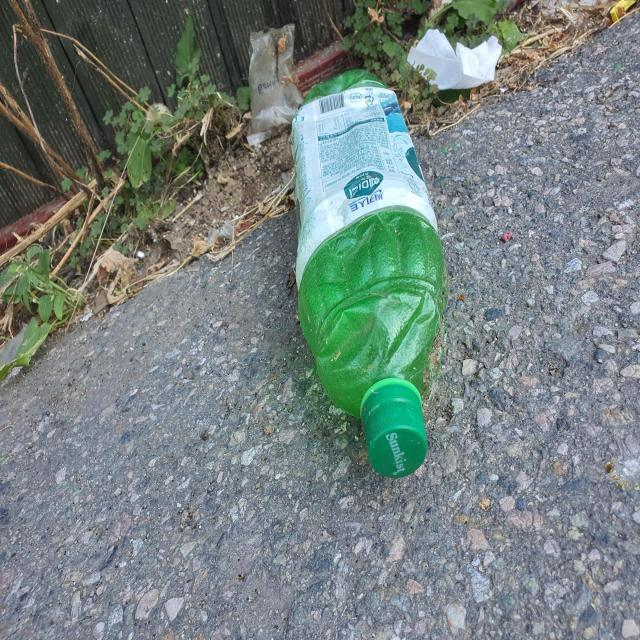plastic: (292, 68, 448, 479)
